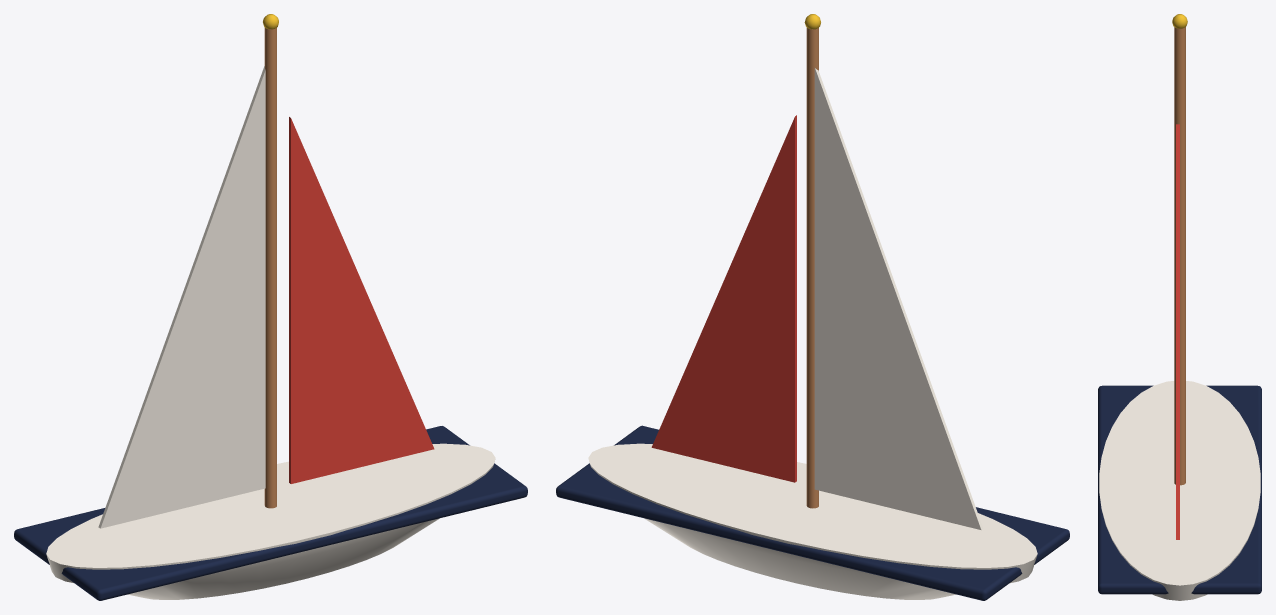
Rendered from sailboat.glb.
The picture shows the model from 3 angles, left to right: view 1: azimuth 30°, elevation 25°; view 2: azimuth 150°, elevation 25°; view 3: azimuth 270°, elevation 25°; orthographic projection. The views are drawn at different scales.
Parts seen in each view (by area): view 1: sailboat; view 2: sailboat; view 3: sailboat.
Boxes of the visible parts, left/top/right/bottom form: sailboat: left=14, top=14, right=527, bottom=600; sailboat: left=556, top=14, right=1069, bottom=600; sailboat: left=1098, top=14, right=1261, bottom=600.
Bounding box in the file's own units: 4.92 × 5.93 × 1.66.
1 material, 1 textured.
